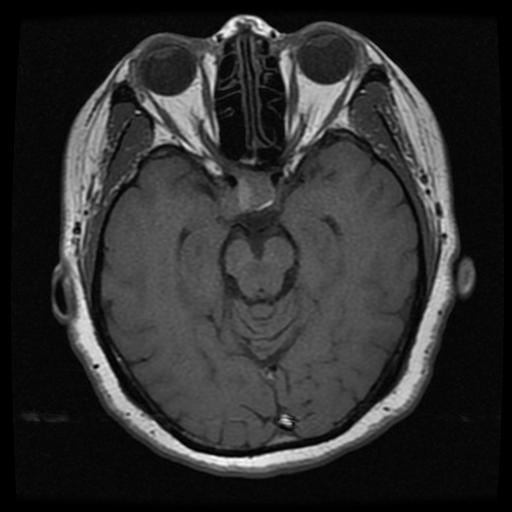Pituirity_tumour: (220, 169, 274, 218)
